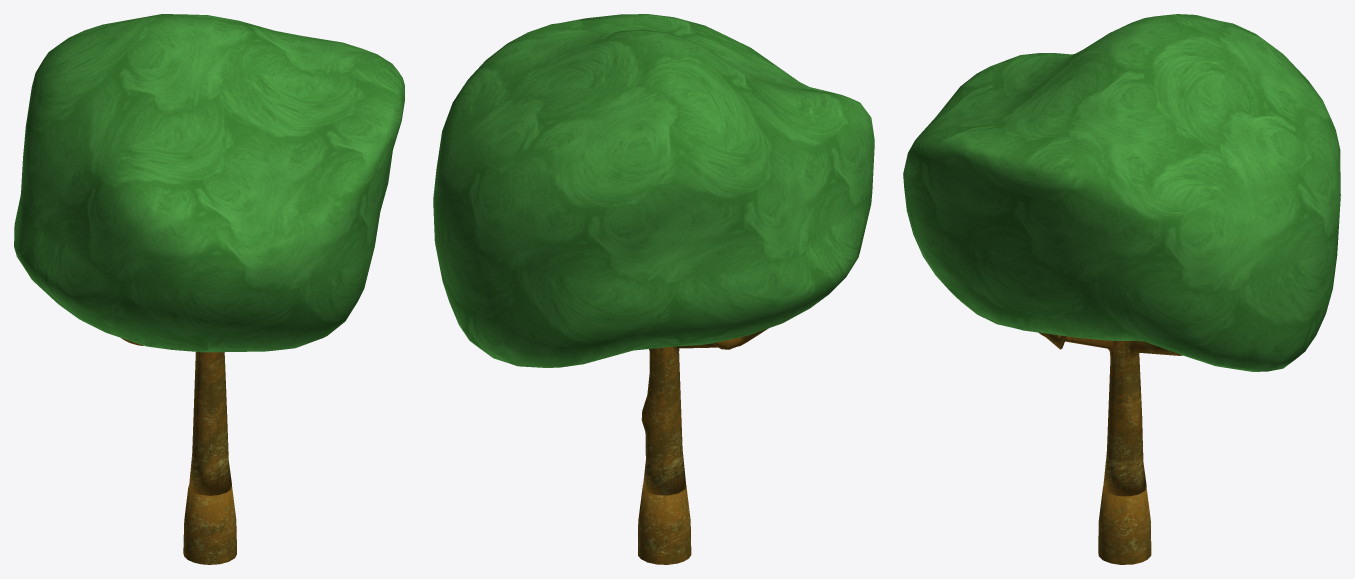
File: Tree1.fbx
The picture shows the model from 3 angles, left to right: view 1: azimuth 30°, elevation 25°; view 2: azimuth 150°, elevation 25°; view 3: azimuth 270°, elevation 25°; orthographic projection.
Parts seen in each view (by area): view 1: Tree1L_up, Tree1L_down; view 2: Tree1L_up, Tree1L_down; view 3: Tree1L_up, Tree1L_down.
Part boxes in pixels (<box>): Tree1L_up: <box>14,14,404,495</box>; Tree1L_down: <box>183,485,236,564</box>; Tree1L_up: <box>433,14,874,495</box>; Tree1L_down: <box>638,485,691,564</box>; Tree1L_up: <box>903,14,1340,496</box>; Tree1L_down: <box>1098,486,1151,564</box>.
Size of the model in its own units: 440 by 611 by 467.
